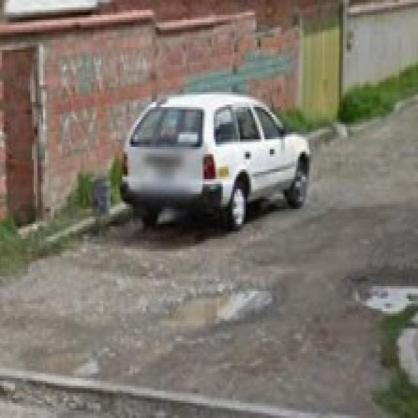car: (122, 93, 311, 234)
